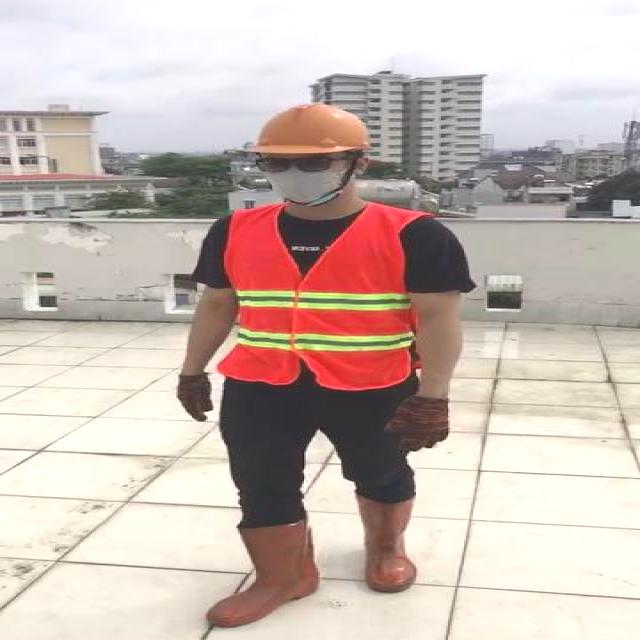boots: (204, 517, 322, 627), (361, 493, 418, 593)
face_mask: (257, 150, 351, 203)
glasses: (250, 150, 342, 176)
hand_glove: (384, 398, 452, 452), (174, 372, 215, 421)
head_helmet: (242, 100, 380, 156)
person: (167, 94, 475, 636)
vest: (220, 208, 416, 386)
